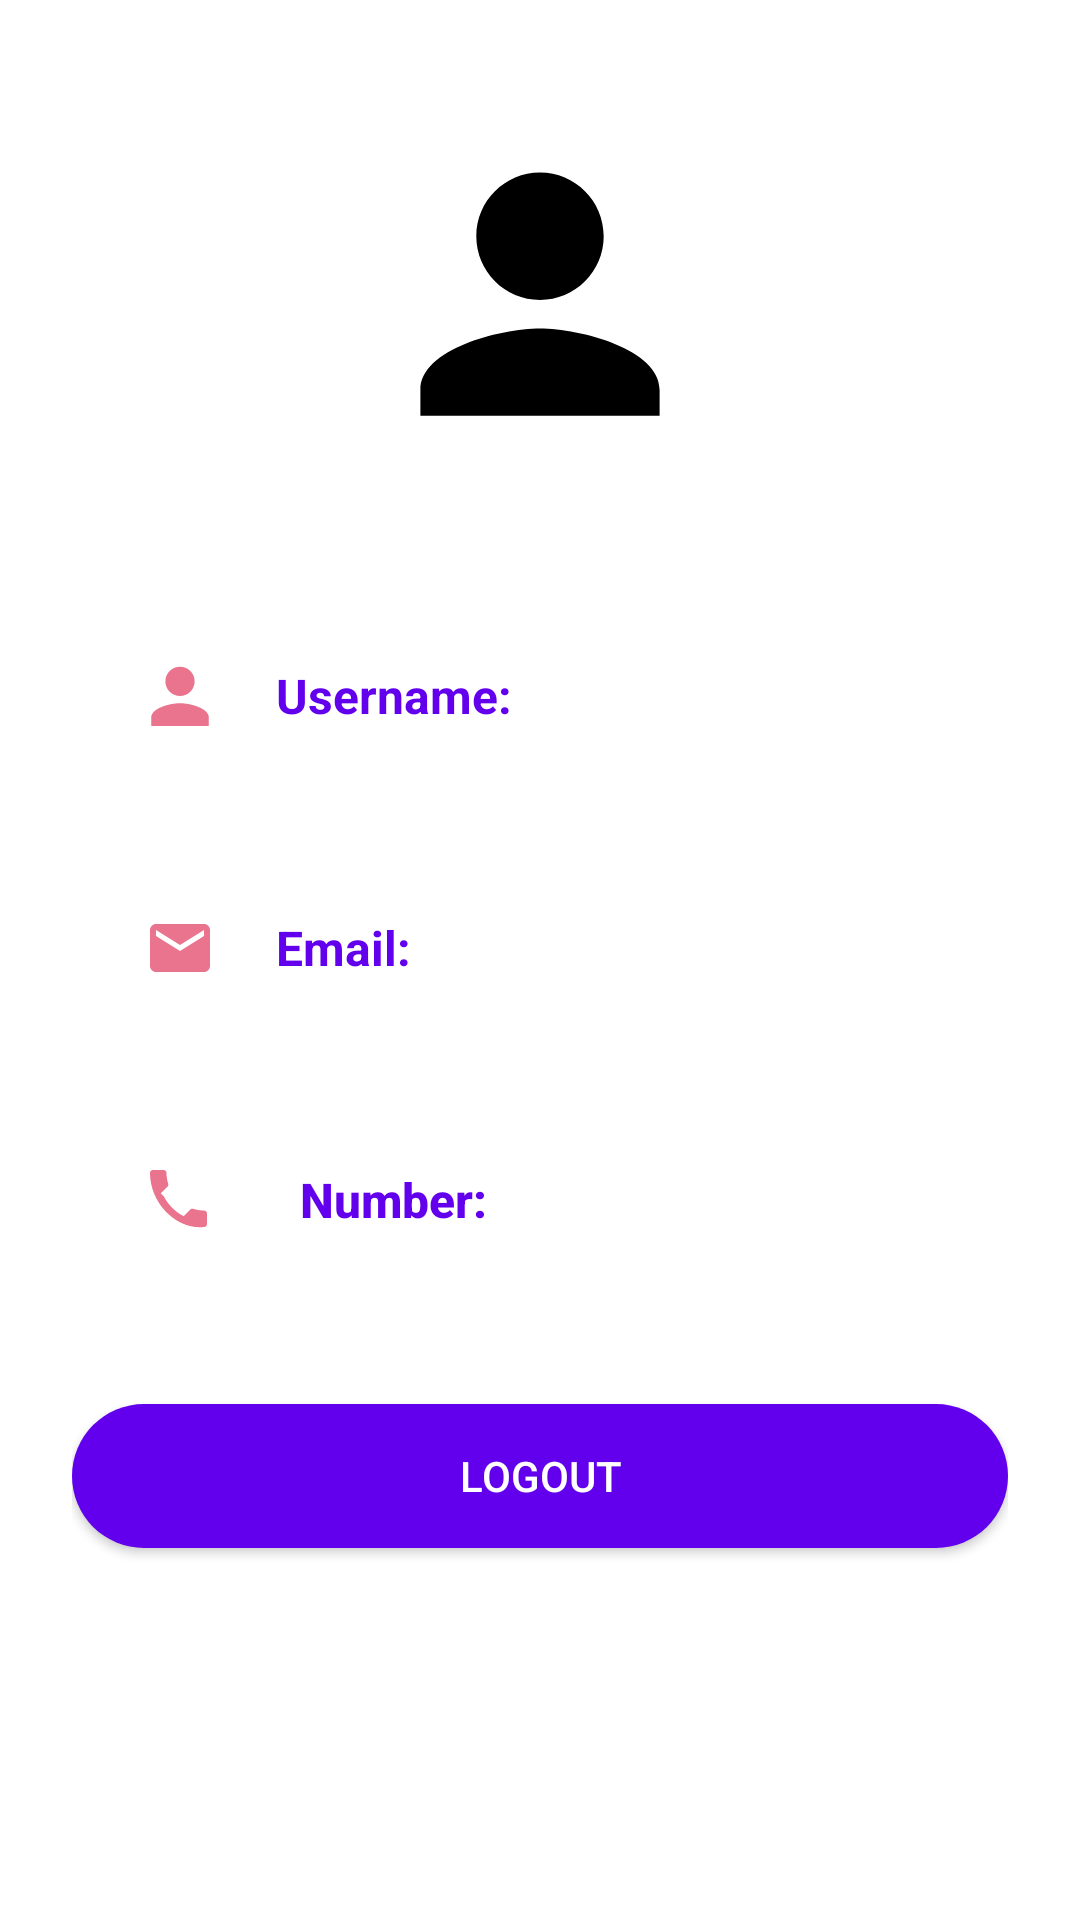

Where to tap for icons on this 1080px x 1920px app screen, as [x,y]:
person: [540,294], [180,696]
phone: [178,1199]
